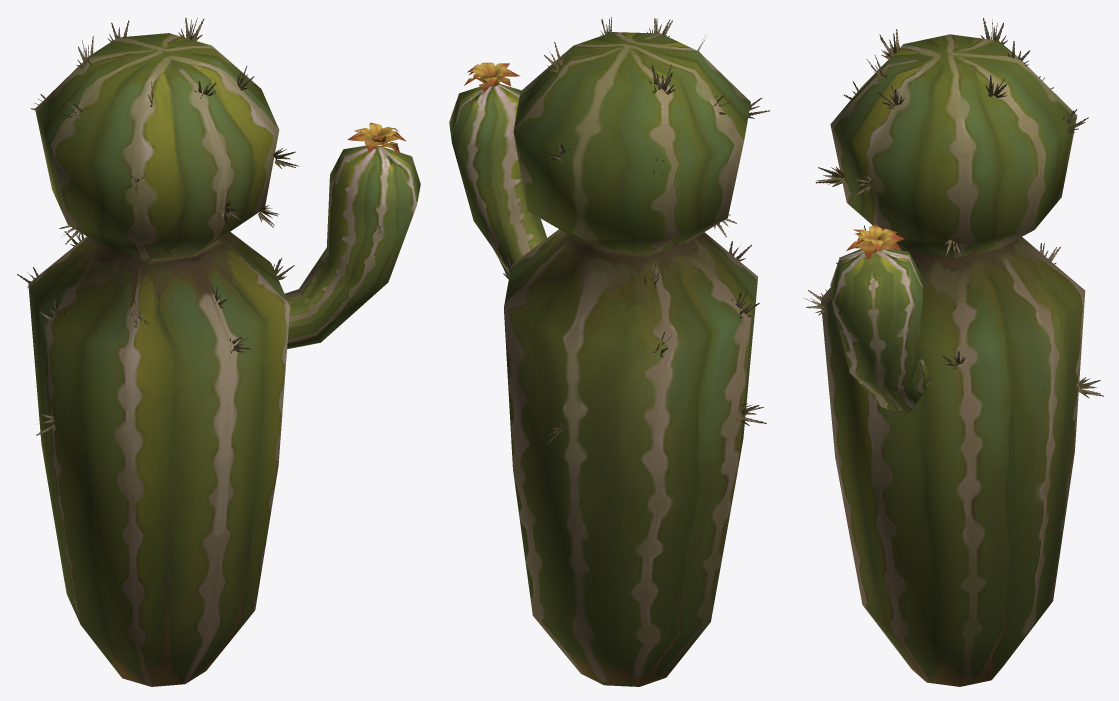
The model's file is Map_11_plant04.FBX.
3 views of the same model, side by side, from view 1: azimuth 30°, elevation 25°; view 2: azimuth 150°, elevation 25°; view 3: azimuth 270°, elevation 25° (orthographic).
Parts seen in each view (by area): view 1: Map_11_plant04a, Map_11_plant04b; view 2: Map_11_plant04a, Map_11_plant04b; view 3: Map_11_plant04a, Map_11_plant04b.
Boxes of the visible parts, left/top/right/bottom form: Map_11_plant04a: left=28, top=33, right=420, bottom=686; Map_11_plant04b: left=17, top=18, right=382, bottom=435; Map_11_plant04a: left=449, top=32, right=757, bottom=686; Map_11_plant04b: left=499, top=17, right=769, bottom=444; Map_11_plant04a: left=821, top=34, right=1085, bottom=686; Map_11_plant04b: left=804, top=18, right=1103, bottom=398.
Bounding box in the file's own units: 184 × 138 × 313.
